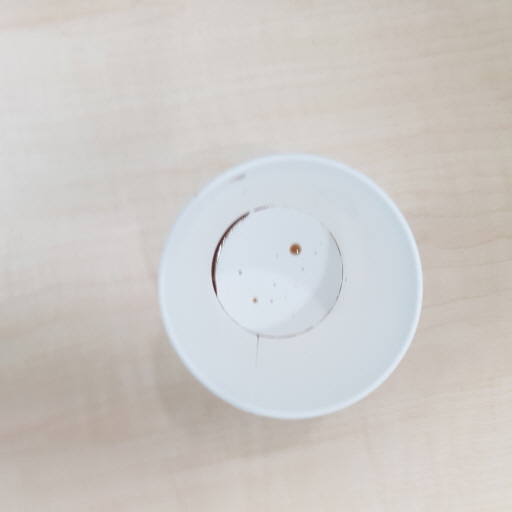Paper_1: (152, 152, 429, 421)
